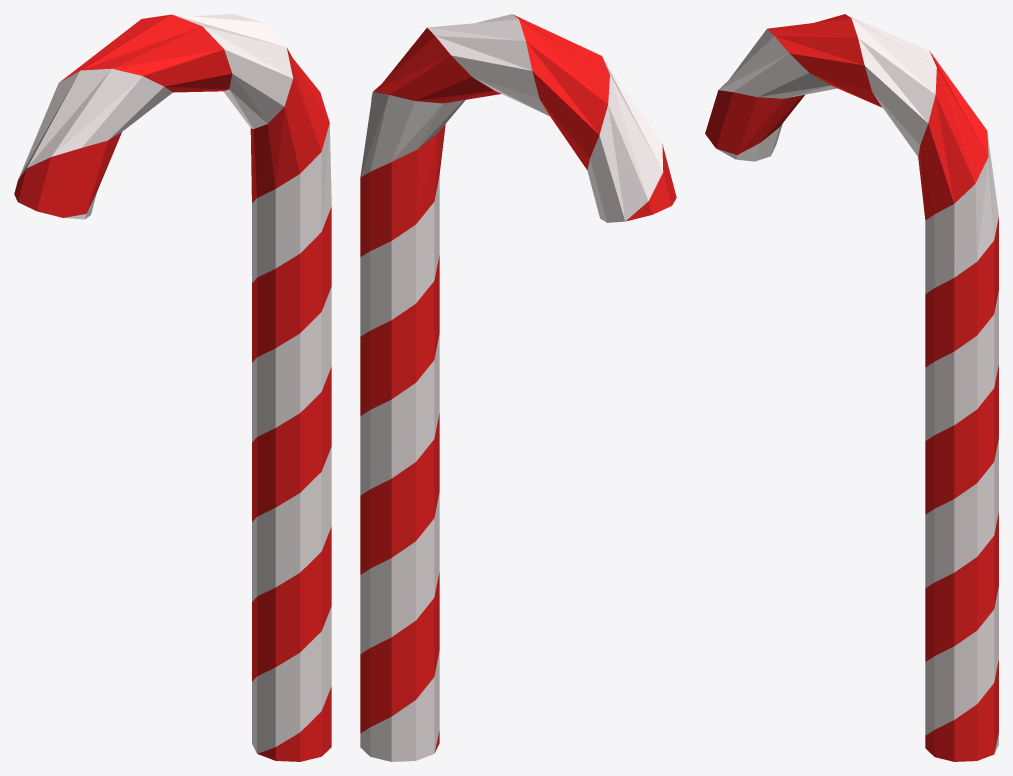
File: cane.glb
3 views of the same model, side by side, from view 1: azimuth 30°, elevation 25°; view 2: azimuth 150°, elevation 25°; view 3: azimuth 330°, elevation 25° (orthographic). The views are drawn at different scales.
Parts seen in each view (by area): view 1: node-0; view 2: node-0; view 3: node-0.
Boxes of the visible parts, x1=… form: node-0: x1=14, y1=14, x2=331, y2=761; node-0: x1=360, y1=14, x2=676, y2=761; node-0: x1=705, y1=14, x2=998, y2=761.
Size of the model in its own units: 22.57 by 53.09 by 4.83.
1 material, 1 textured.
